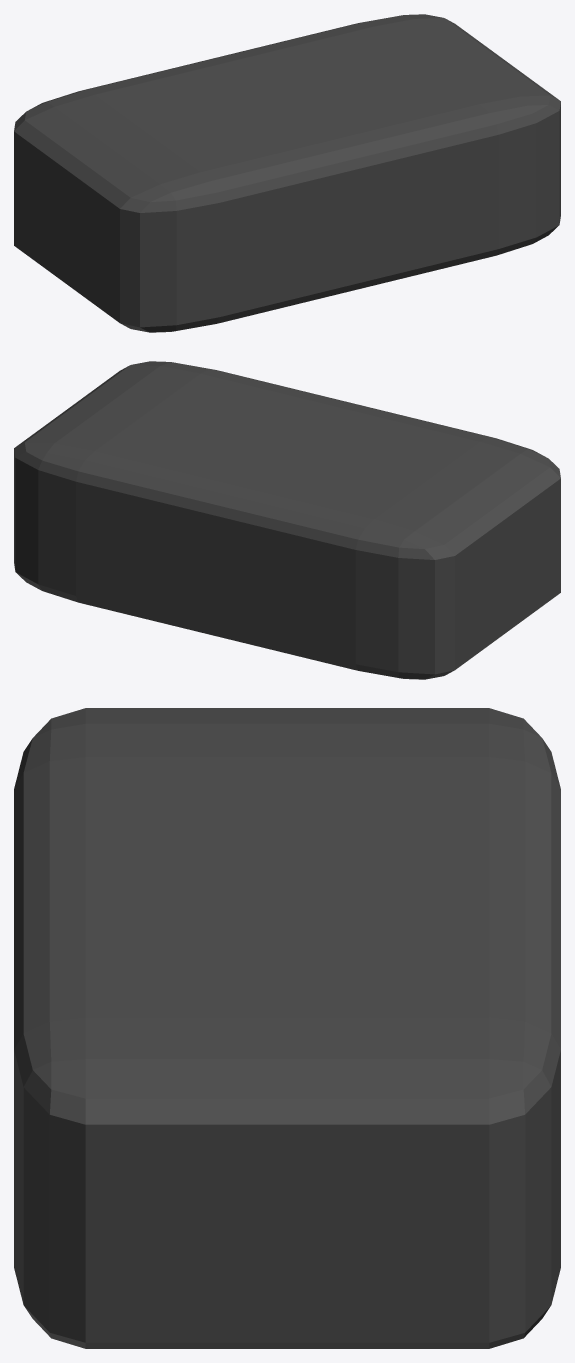
Rendered from sm_suitcase03.fbx.
3 views of the same model, one above another, from view 1: azimuth 30°, elevation 25°; view 2: azimuth 150°, elevation 25°; view 3: azimuth 270°, elevation 25° (orthographic). The views are drawn at different scales.
Parts seen in each view (by area): view 1: Suitcase.002; view 2: Suitcase.002; view 3: Suitcase.002.
Part boxes in pixels (left/top/right/bottom): Suitcase.002: left=14, top=14, right=560, bottom=332; Suitcase.002: left=14, top=361, right=560, bottom=679; Suitcase.002: left=14, top=708, right=560, bottom=1348.
Bounding box in the file's own units: 1.17 × 0.6595 × 0.376.
1 material, 1 textured.
